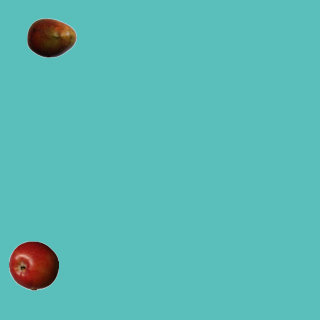Apple Braeburn: (8, 240, 58, 290)
Mango Red: (26, 12, 76, 62)
